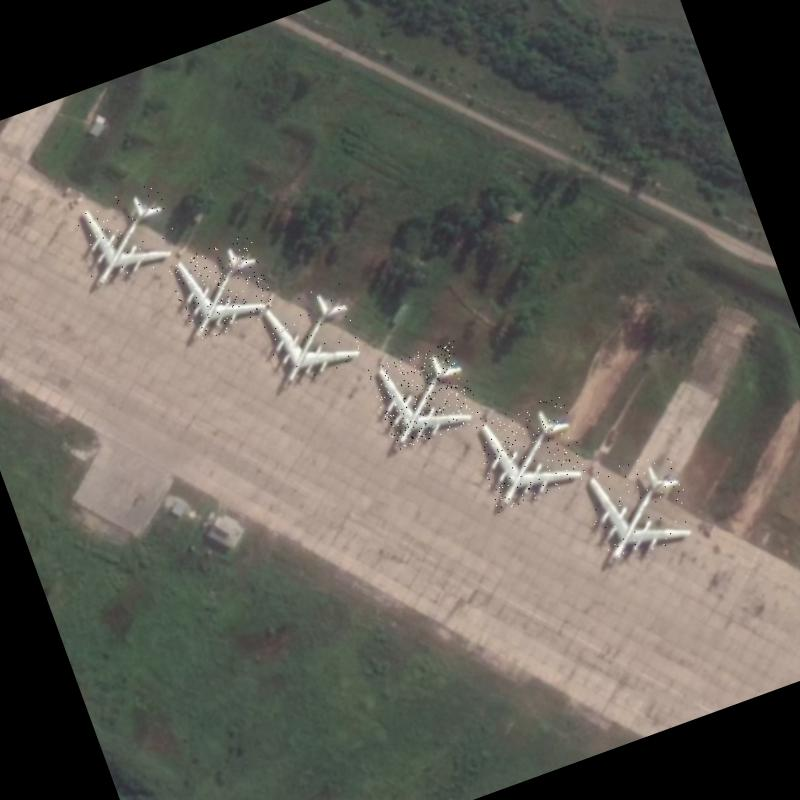A17: (576, 446, 700, 567), (467, 393, 591, 512), (366, 338, 482, 450), (164, 232, 278, 344), (67, 182, 183, 290), (256, 280, 368, 390)
